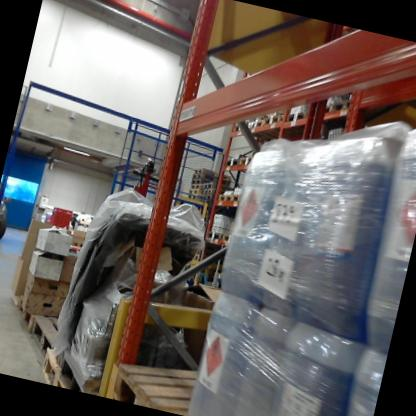pallet: (105, 354, 242, 416), (23, 309, 104, 366), (57, 331, 120, 398), (4, 291, 67, 337), (35, 341, 80, 385), (332, 87, 374, 122), (261, 108, 290, 140), (229, 187, 261, 213), (193, 164, 235, 183), (283, 107, 316, 130), (313, 98, 335, 122), (221, 151, 242, 176), (203, 179, 235, 195), (194, 170, 228, 184), (246, 115, 269, 135), (222, 231, 250, 247), (202, 186, 232, 200), (231, 116, 251, 136), (237, 152, 261, 168), (204, 226, 225, 242), (214, 190, 232, 208), (201, 191, 219, 202), (189, 181, 206, 192), (187, 187, 204, 197), (191, 175, 206, 186), (185, 193, 200, 204), (201, 222, 214, 233), (207, 200, 217, 209), (203, 214, 211, 223), (205, 207, 213, 215)
pallet_truck: (188, 233, 219, 296), (207, 232, 237, 297)
